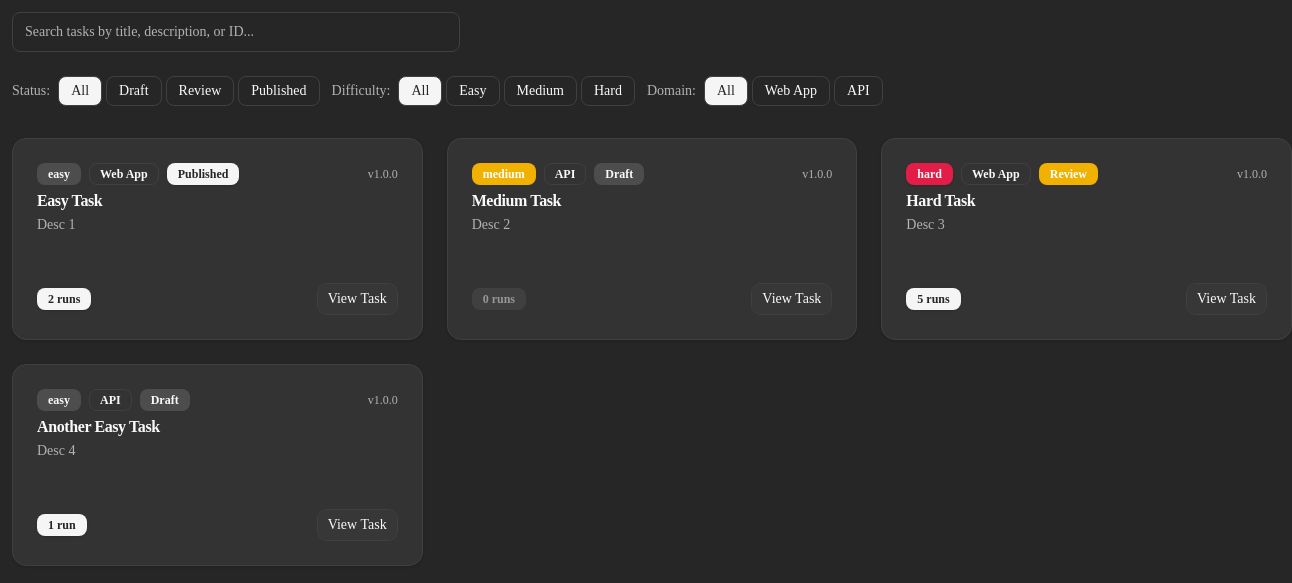
Scenario: TaskListWithFilters › searches by title
Type "Easy" into the field with test id "search-input" at (236, 32), box x1=12 y1=12 x2=460 y2=52
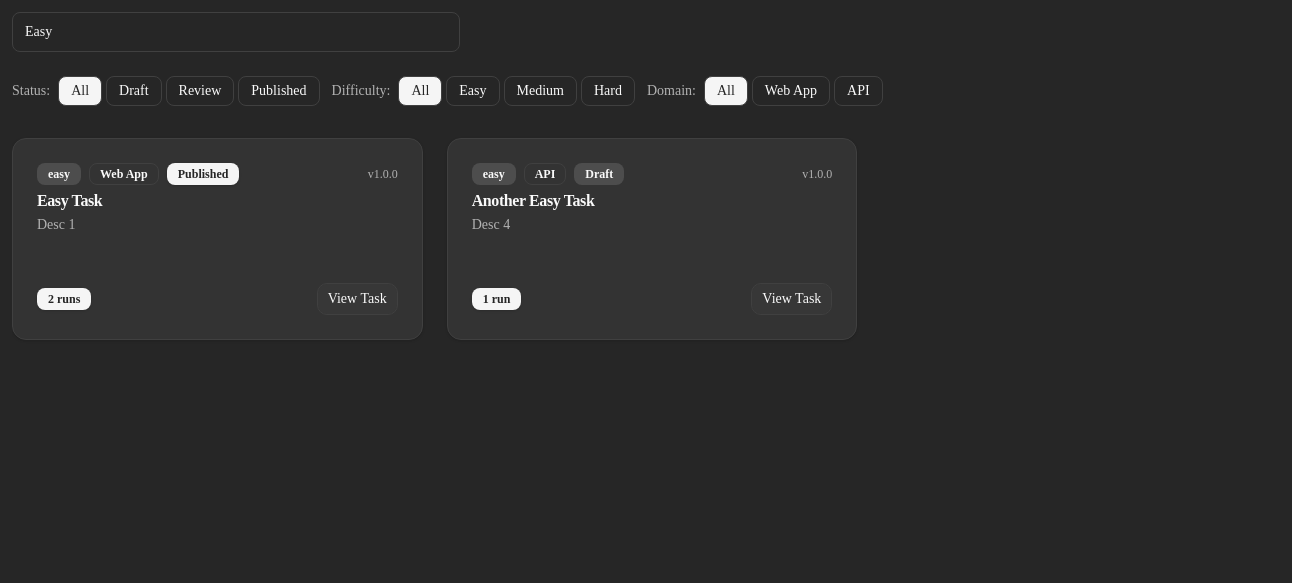
Expected: the text "Easy Task" is shown, x1=37 y1=192 x2=102 y2=209
Now the text "Medium Task" is gone
Now the text "Hard Task" is gone
